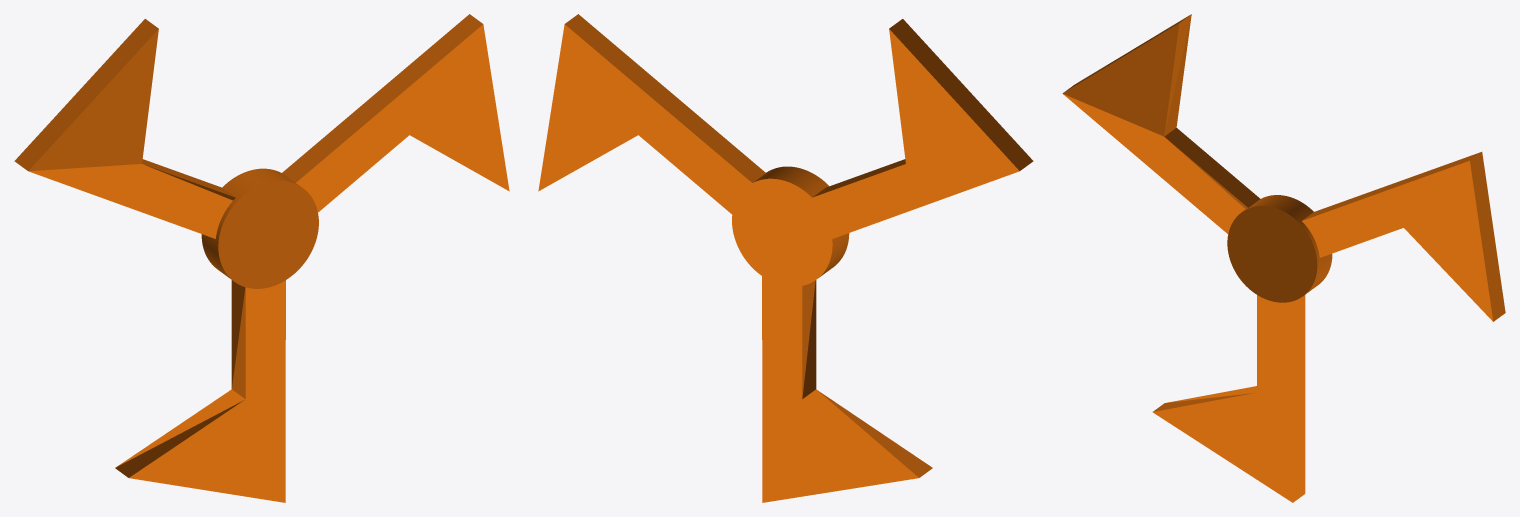
The model's file is Triangles.obj.
The picture shows the model from 3 angles, left to right: view 1: azimuth 30°, elevation 25°; view 2: azimuth 150°, elevation 25°; view 3: azimuth 330°, elevation 25°; orthographic projection. The views are drawn at different scales.
Visible parts, largest first — view 1: obj_57029950; view 2: obj_57029950; view 3: obj_57029950.
Boxes of the visible parts, x1,y1,x2,y2 form: obj_57029950: (14,14,509,502); obj_57029950: (538,14,1033,502); obj_57029950: (1062,14,1505,502).
Size of the model in its own units: 38.29 by 38.39 by 2.3.
